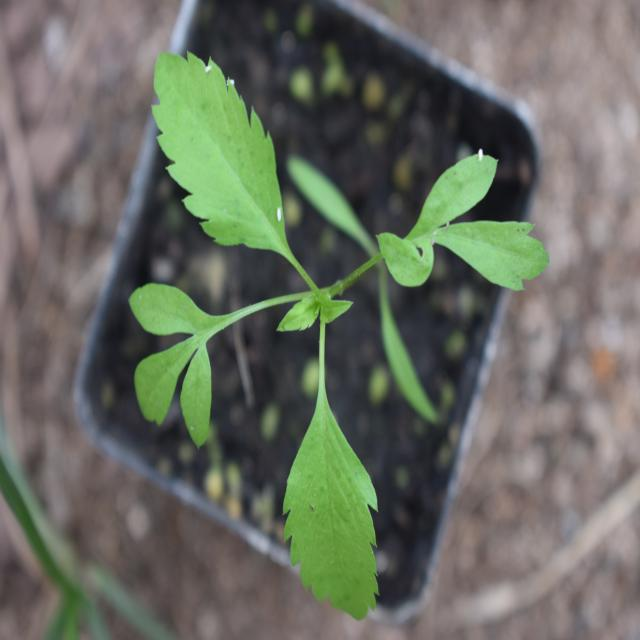Bidens pilosa: (135, 44, 548, 606)
